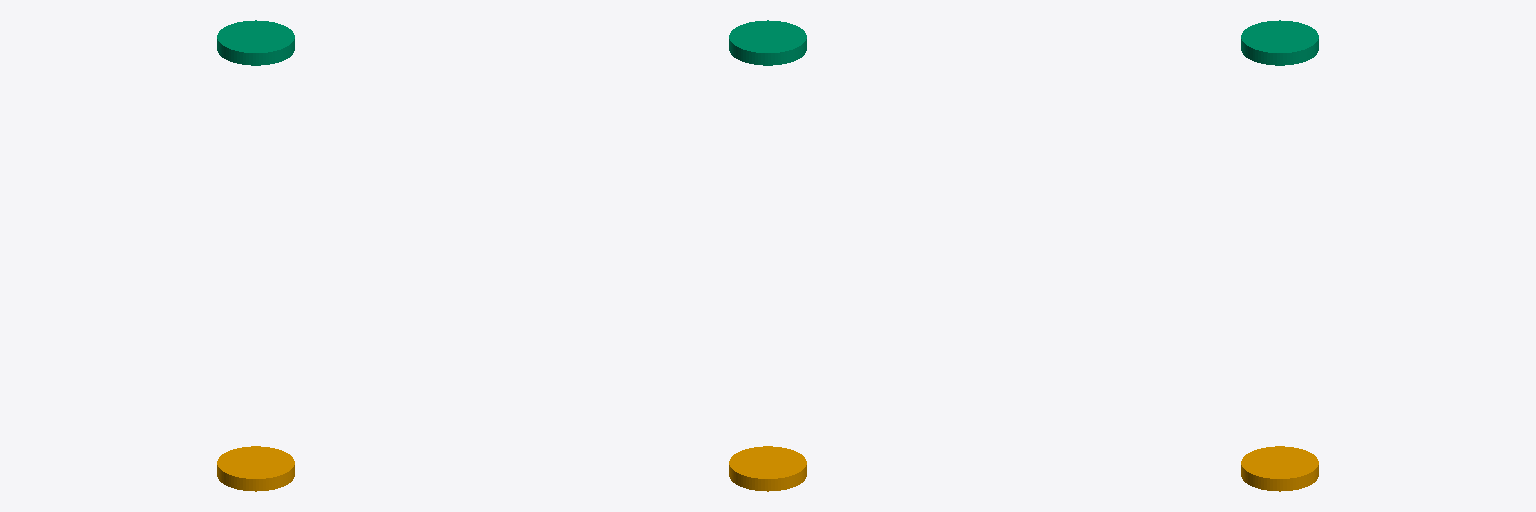
URDF robot description (tube):
<?xml version="1.0" ?>

<robot name="tube">

    <!-- <link name="world1">
    </link>
    <link name="world2">
    </link>

    <joint name="world1_to_down" type="prismatic">
        <parent link="world1"/>
        <child link="down"/>
        <origin rpy="0.0 0.0 0.0" xyz="0.0 0.0 0.0"/>
        <axis xyz="0 1 0"/>
        <dynamics damping="0.0" friction="0.0"/>
        <limit lower="0.0" upper="0.1" velocity="1e9" effort="1e9"/>
    </joint>

    <joint name="up_to_world2" type="prismatic">
        <parent link="up"/>
        <child link="world2"/>
        <origin rpy="0.0 0.0 0.0" xyz="0.0 0.0 0.0"/>
        <axis xyz="0 1 0"/>
        <dynamics damping="0.0" friction="0.0"/>
        <limit lower="0.0" upper="0.1" velocity="1e9" effort="1e9"/>
    </joint> -->

    <link name="up">    
	    <visual>
            <origin rpy="0.0 0.0 0.0" xyz="0.0 0.0 0.0"/>
            <geometry>
                <mesh filename="../../meshes/tubes/126x146/up.obj" scale="0.001 0.001 0.001"/>
            </geometry>
        </visual>
        <collision>
            <origin rpy="0.0 0.0 0.0" xyz="0.0 0.0 0.0"/>
            <geometry>
                <mesh filename="../../meshes/tubes/126x146/up.obj" scale="0.001 0.001 0.001"/>
                <scale value="0.001"/>
            </geometry>
        </collision>
	</link>

    <joint name = "up_to_tube" type = "fixed">
		<origin xyz = "0.0 0.0 0.0" rpy = "0 0 0"/>
		<parent link = "up"/>
		<child link = "tube"/>
	</joint>

    <link name="tube">
		<fem>
			<origin rpy="0 0 0" xyz="0 0 0"/>
			<density value=""/>
			<youngs value=""/>
			<poissons value=""/>
			<damping value="0.0"/>
			<attachDistance value="1e-5"/>
			<tetmesh filename="../../meshes/tubes/126x146/sparse/tube.tet"/>
			<scale value="0.001"/>
		</fem>
	</link>

    <joint name = "tube_to_down" type = "fixed">
		<origin xyz = "0.0 0.0 1.0" rpy = "0 0 0"/>
		<parent link = "tube"/>
		<child link = "down"/>
	</joint>

    <link name="down">    
	    <visual>
            <origin rpy="0.0 0.0 0.0" xyz="0.0 0.0 0.0"/>
            <geometry>
                <mesh filename="../../meshes/tubes/126x146/down.obj" scale="0.001 0.001 0.001"/>
            </geometry>
        </visual>
        <collision>
            <origin rpy="0.0 0.0 0.0" xyz="0.0 0.0 0.0"/>
            <geometry>
                <mesh filename="../../meshes/tubes/126x146/down.obj" scale="0.001 0.001 0.001"/>
            </geometry>
        </collision>
	</link>

</robot>

--- Facts derived from the render (not from the file) ---
Views: 3 orthographic renders of the robot side by side, from view 1: azimuth 30°, elevation 25°; view 2: azimuth 150°, elevation 25°; view 3: azimuth 270°, elevation 25°.
Robot: tube — 3 links, 2 joints (2 fixed); root link up; default pose: every joint at zero.
Visible links, largest first — view 1: up, down; view 2: up, down; view 3: up, down.
Link boxes in pixels (left/top/right/bottom): up: left=217, top=446, right=294, bottom=491; down: left=217, top=20, right=294, bottom=65; up: left=729, top=446, right=806, bottom=491; down: left=729, top=20, right=806, bottom=65; up: left=1241, top=446, right=1318, bottom=491; down: left=1241, top=20, right=1318, bottom=65.
Size in the robot's own frame: 0.17 by 0.17 by 1.06 metres.
2 mesh visuals loaded from 2 distinct referenced files (2 OBJ).
